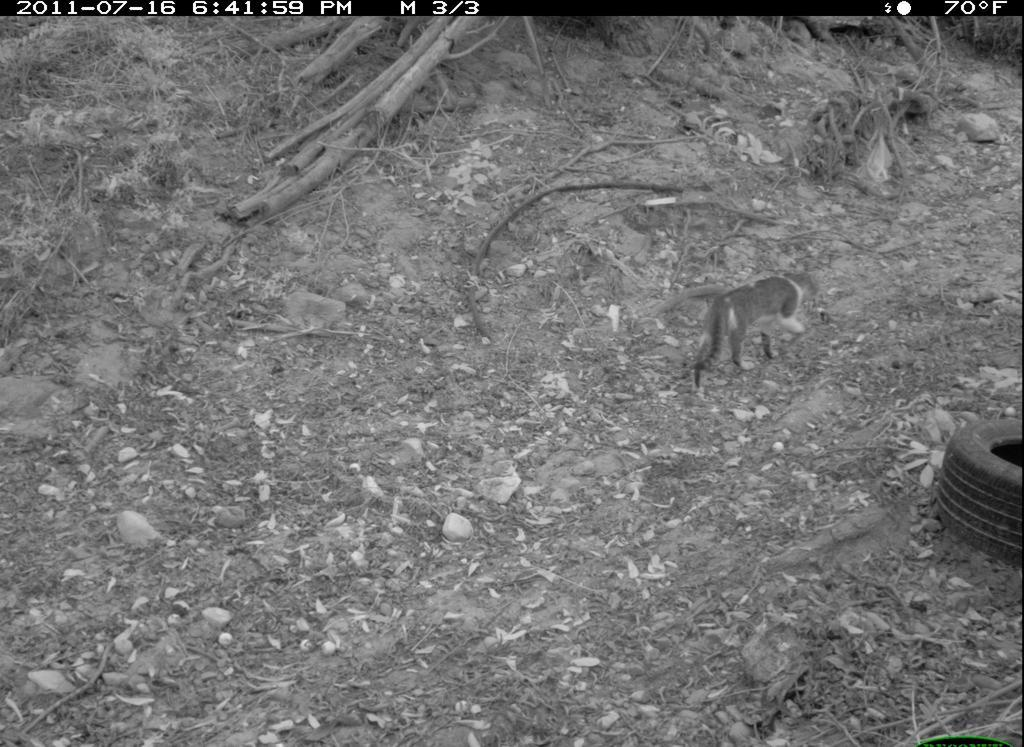cat: (698, 269, 822, 383)
